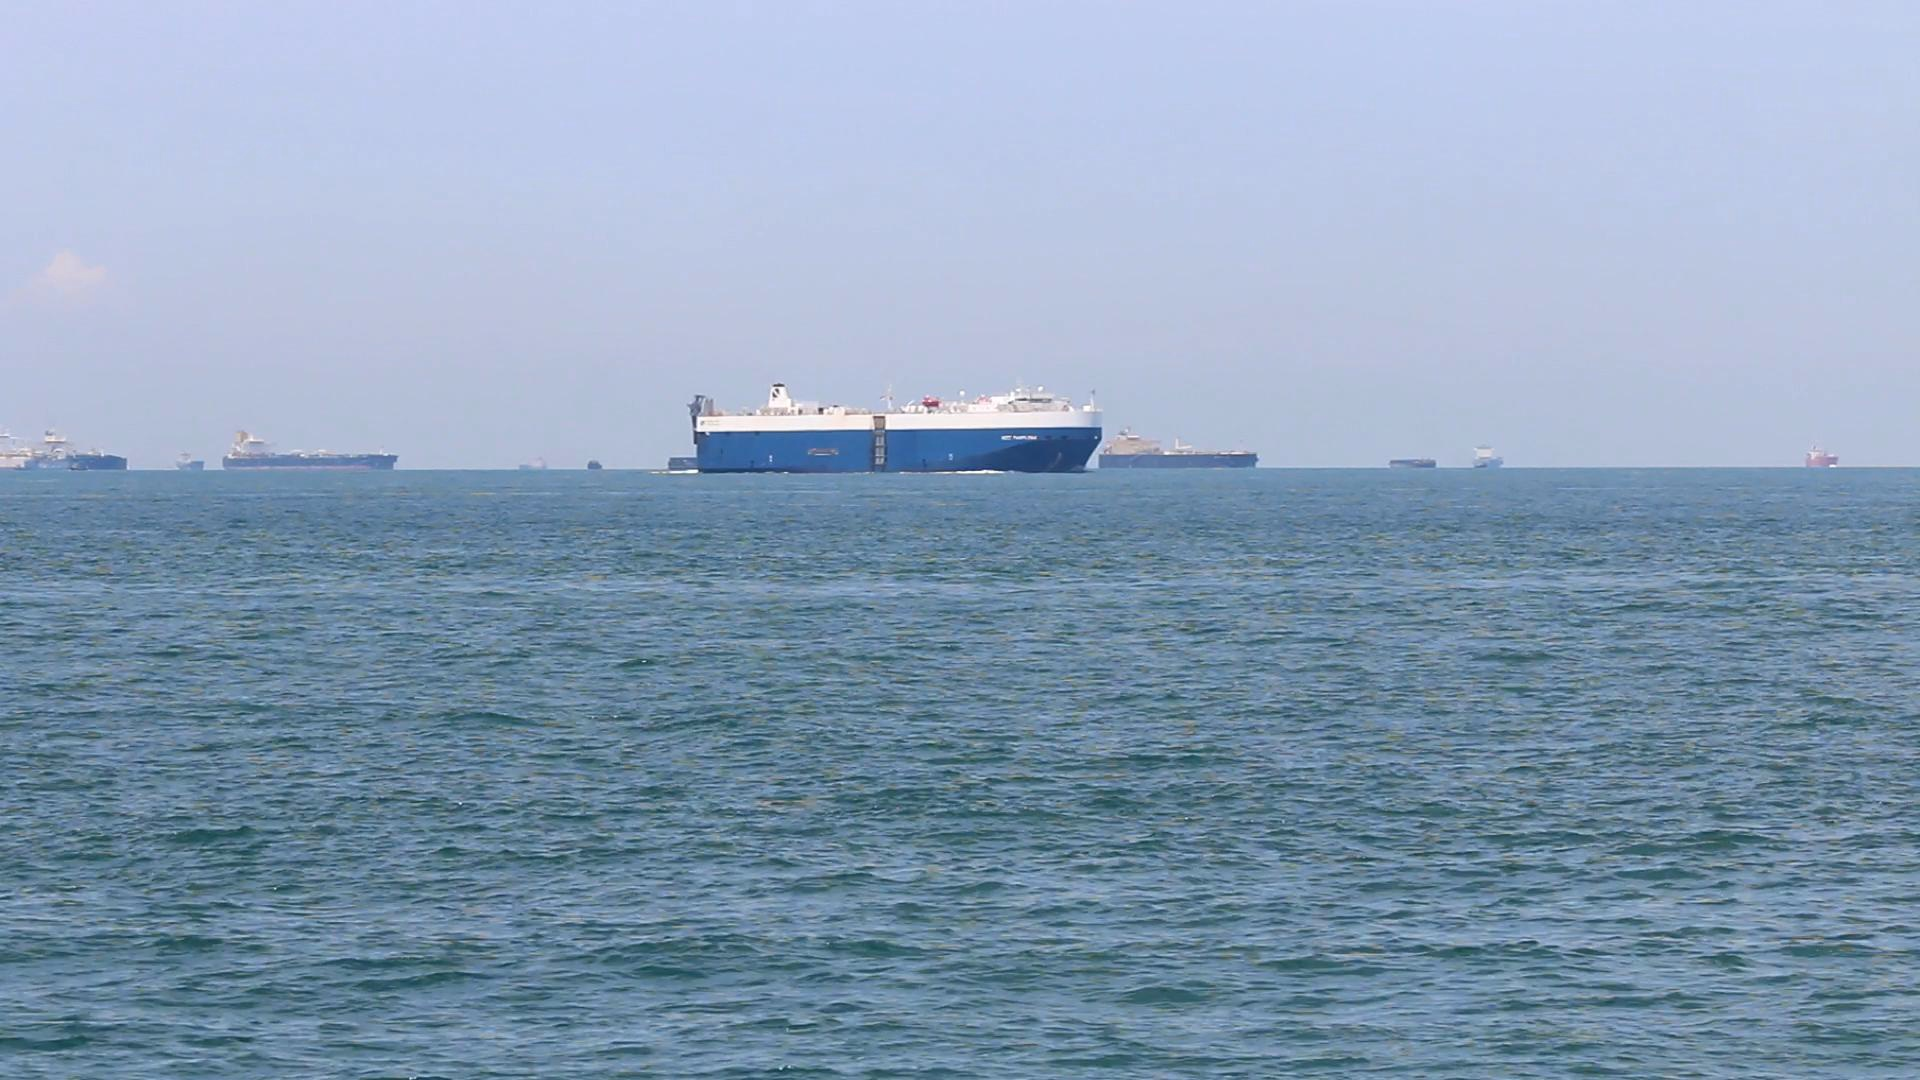Container Ship: (690, 384, 1105, 483), (223, 429, 407, 473), (1101, 430, 1262, 477), (26, 436, 135, 479), (157, 443, 210, 479), (1465, 442, 1511, 481), (1792, 439, 1838, 477), (0, 439, 34, 484), (1383, 451, 1441, 475), (520, 455, 559, 485), (578, 448, 603, 483)
